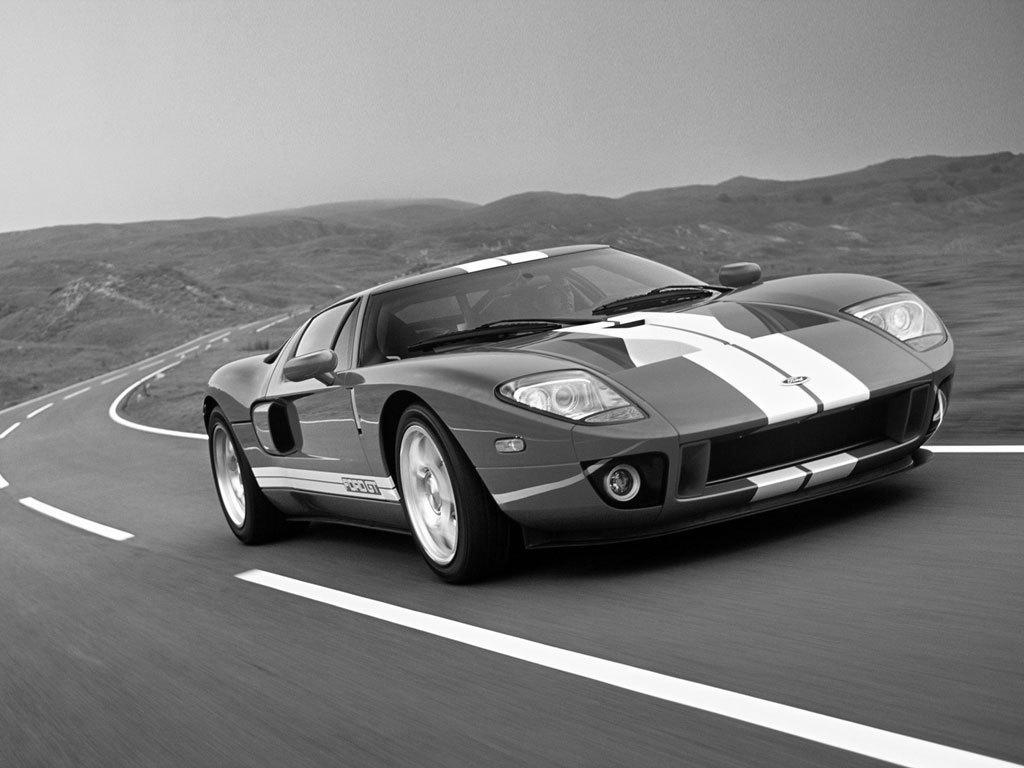car: (201, 241, 965, 594)
